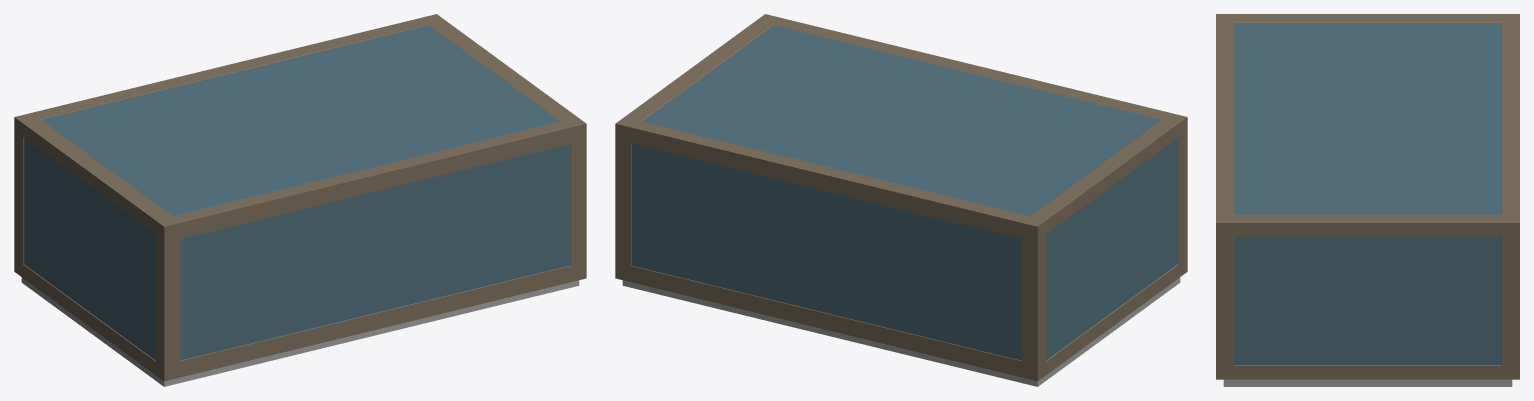
Rendered from PistolAmmoBox.fbx.
3 views of the same model, side by side, from view 1: azimuth 30°, elevation 25°; view 2: azimuth 150°, elevation 25°; view 3: azimuth 270°, elevation 25° (orthographic).
Visible parts, largest first — view 1: InnerBox, OuterBox, AmmoBox_Bottom; view 2: InnerBox, OuterBox, AmmoBox_Bottom; view 3: InnerBox, OuterBox, AmmoBox_Bottom.
Part boxes in pixels (<box>): InnerBox: <box>24,25,569,360</box>; OuterBox: <box>14,14,586,381</box>; AmmoBox_Bottom: <box>21,277,579,386</box>; InnerBox: <box>632,25,1177,360</box>; OuterBox: <box>615,14,1187,381</box>; AmmoBox_Bottom: <box>622,277,1180,386</box>; InnerBox: <box>1234,23,1501,364</box>; OuterBox: <box>1216,14,1519,379</box>; AmmoBox_Bottom: <box>1223,379,1512,386</box>.
Size of the model in its own units: 2.12 by 0.785 by 1.3.
